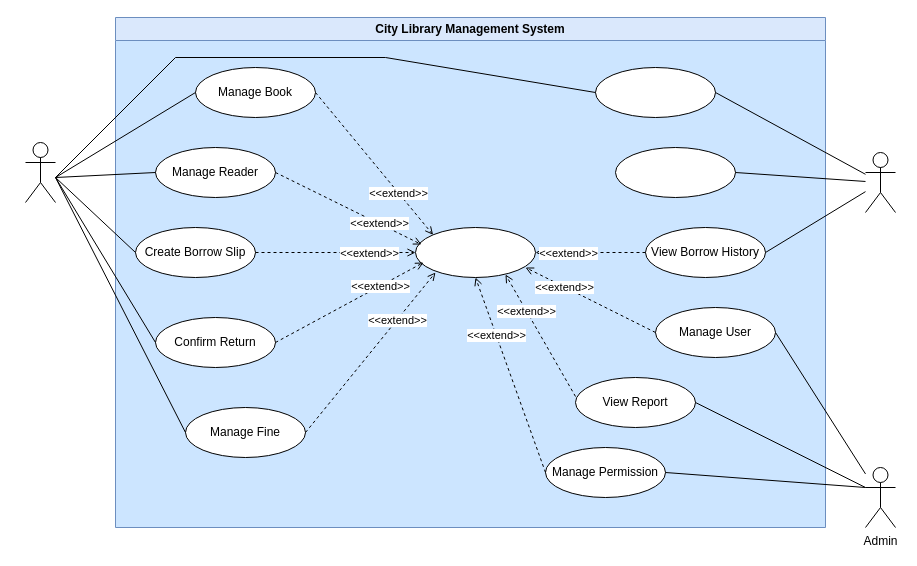
The diagram is 917 pixels wide and 566 high, and some of its shapes have lost their labels. Each missing label, with the centre of its shape:
"Librarian" goes at point (40, 172).
"Login" goes at point (475, 252).
"Reader" goes at point (880, 182).
"Search Book" goes at point (655, 92).
"View Book Detail" goes at point (675, 172).
